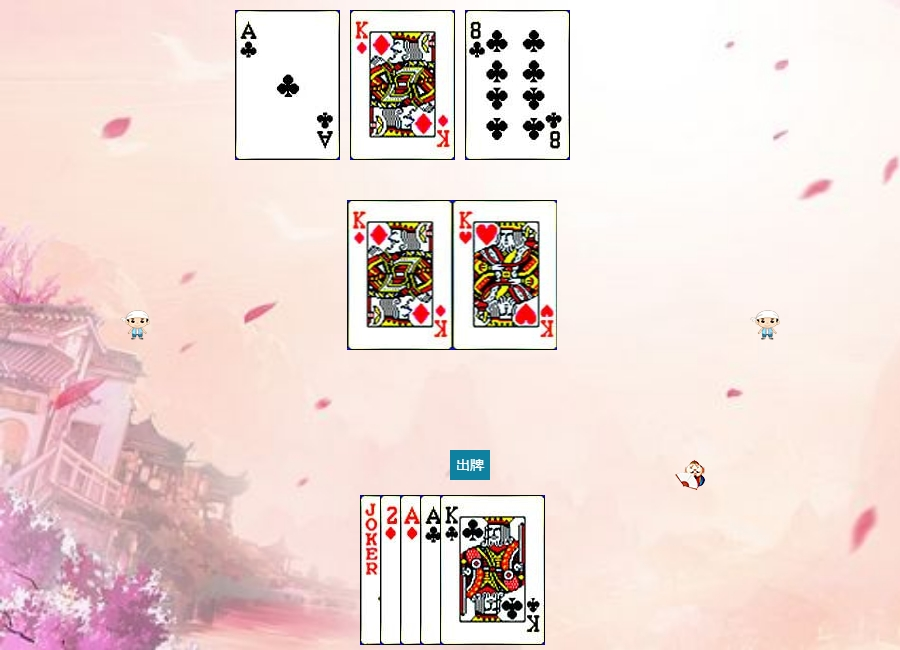13~1: (350, 10, 455, 160), (348, 200, 453, 350)
13~2: (440, 495, 545, 645)
13~3: (453, 200, 558, 350)
14~1: (400, 495, 505, 645)
14~2: (235, 10, 340, 160), (420, 495, 525, 645)
15~1: (380, 495, 485, 645)
18~4: (360, 495, 465, 645)
8~2: (465, 10, 570, 160)
